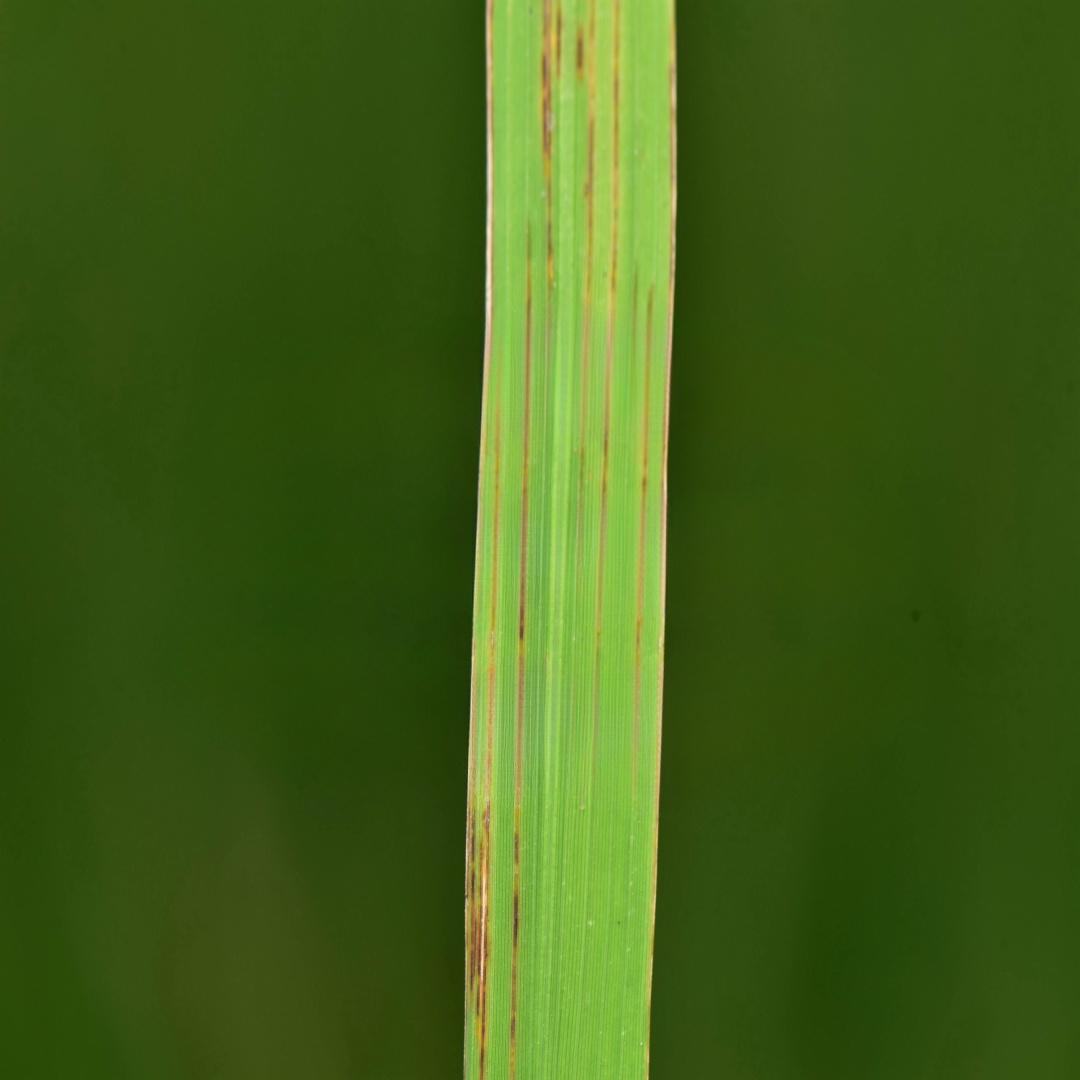BLS: (464, 351, 503, 1079), (593, 0, 621, 742), (510, 224, 533, 1079), (576, 0, 596, 564), (633, 285, 654, 752), (482, 0, 493, 420), (541, 0, 555, 286), (555, 1, 562, 80), (633, 261, 639, 350), (576, 29, 583, 79)
LEAF: (463, 0, 677, 1079)
